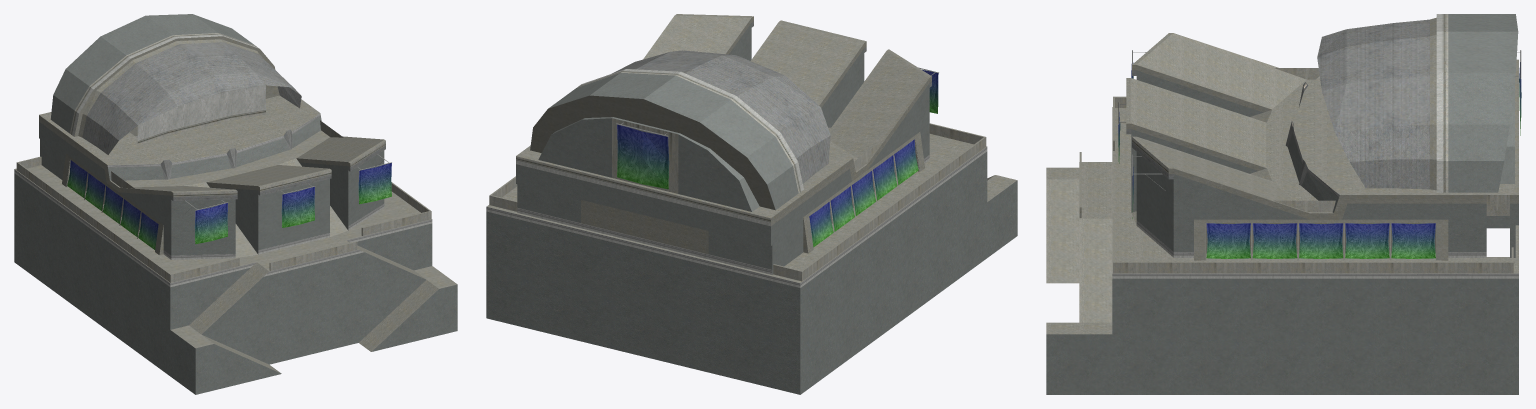
Rendered from ply_corl_theater_s01_r0_exterior_mesh_l1.fbx.
3 renders of one model, left to right at view 1: azimuth 30°, elevation 25°; view 2: azimuth 150°, elevation 25°; view 3: azimuth 270°, elevation 25°, orthographic. The views are drawn at different scales.
Visible parts, largest first — view 1: mesh_node; view 2: mesh_node; view 3: mesh_node.
Boxes of the visible parts, bbox=[...] form: mesh_node: bbox=[14, 14, 457, 394]; mesh_node: bbox=[486, 14, 1017, 394]; mesh_node: bbox=[1046, 14, 1521, 394].
Bounding box in the file's own units: 25.6 × 20.05 × 30.84.
